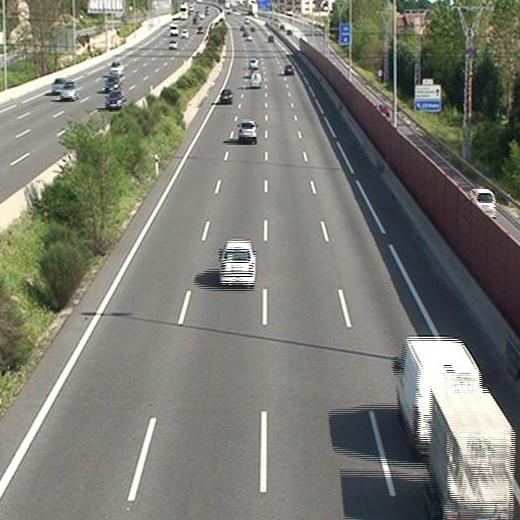car: (219, 240, 257, 287), (238, 121, 256, 142), (220, 88, 232, 104), (250, 57, 260, 70), (283, 63, 293, 75)
van: (392, 338, 482, 457), (250, 73, 262, 89)
